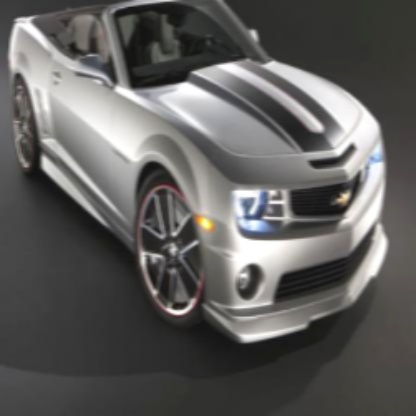Vehicle: (7, 1, 390, 357)
